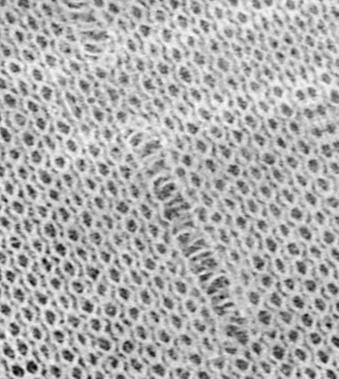slub: (120, 118, 247, 331), (59, 0, 119, 69)
